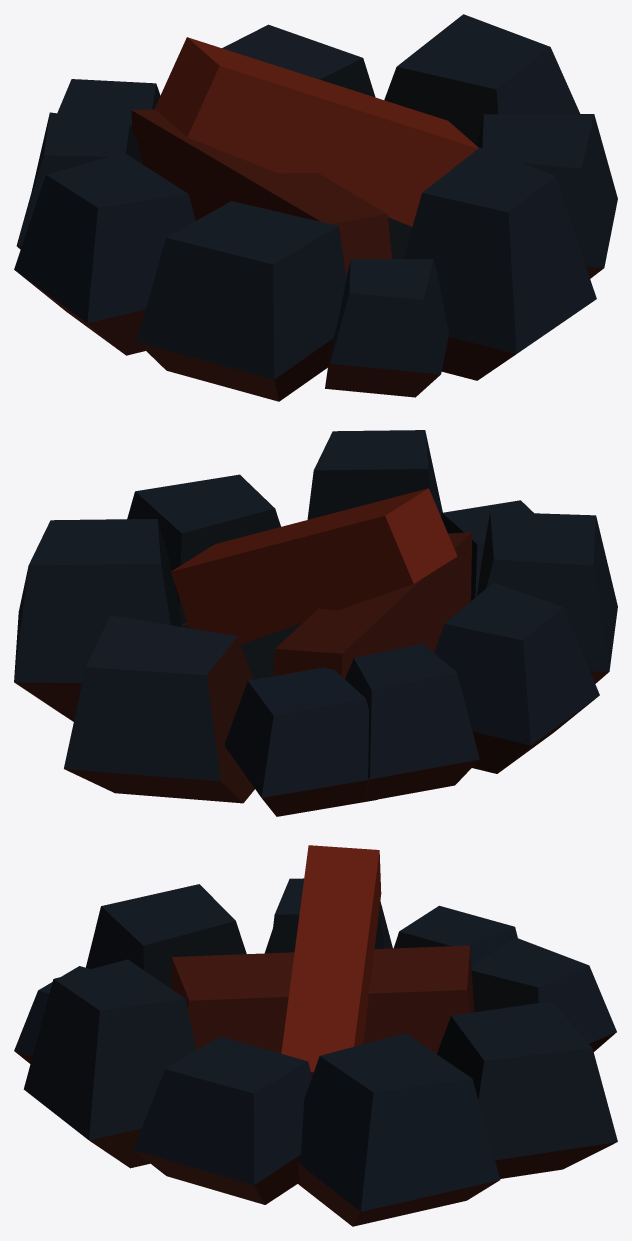
File: campfire.glb
3 renders of one model, top to bottom at view 1: azimuth 30°, elevation 25°; view 2: azimuth 150°, elevation 25°; view 3: azimuth 270°, elevation 25°, orthographic. The views are drawn at different scales.
Visible parts, largest first — view 1: Cube.001; view 2: Cube.001; view 3: Cube.001.
Boxes of the visible parts, x1,y1,x2,y2 form: Cube.001: (14, 14, 617, 401); Cube.001: (14, 430, 617, 816); Cube.001: (14, 845, 617, 1226).
Bounding box in the file's own units: 3.27 × 1.51 × 3.38.
Materials: 1 (1 with a texture image).
